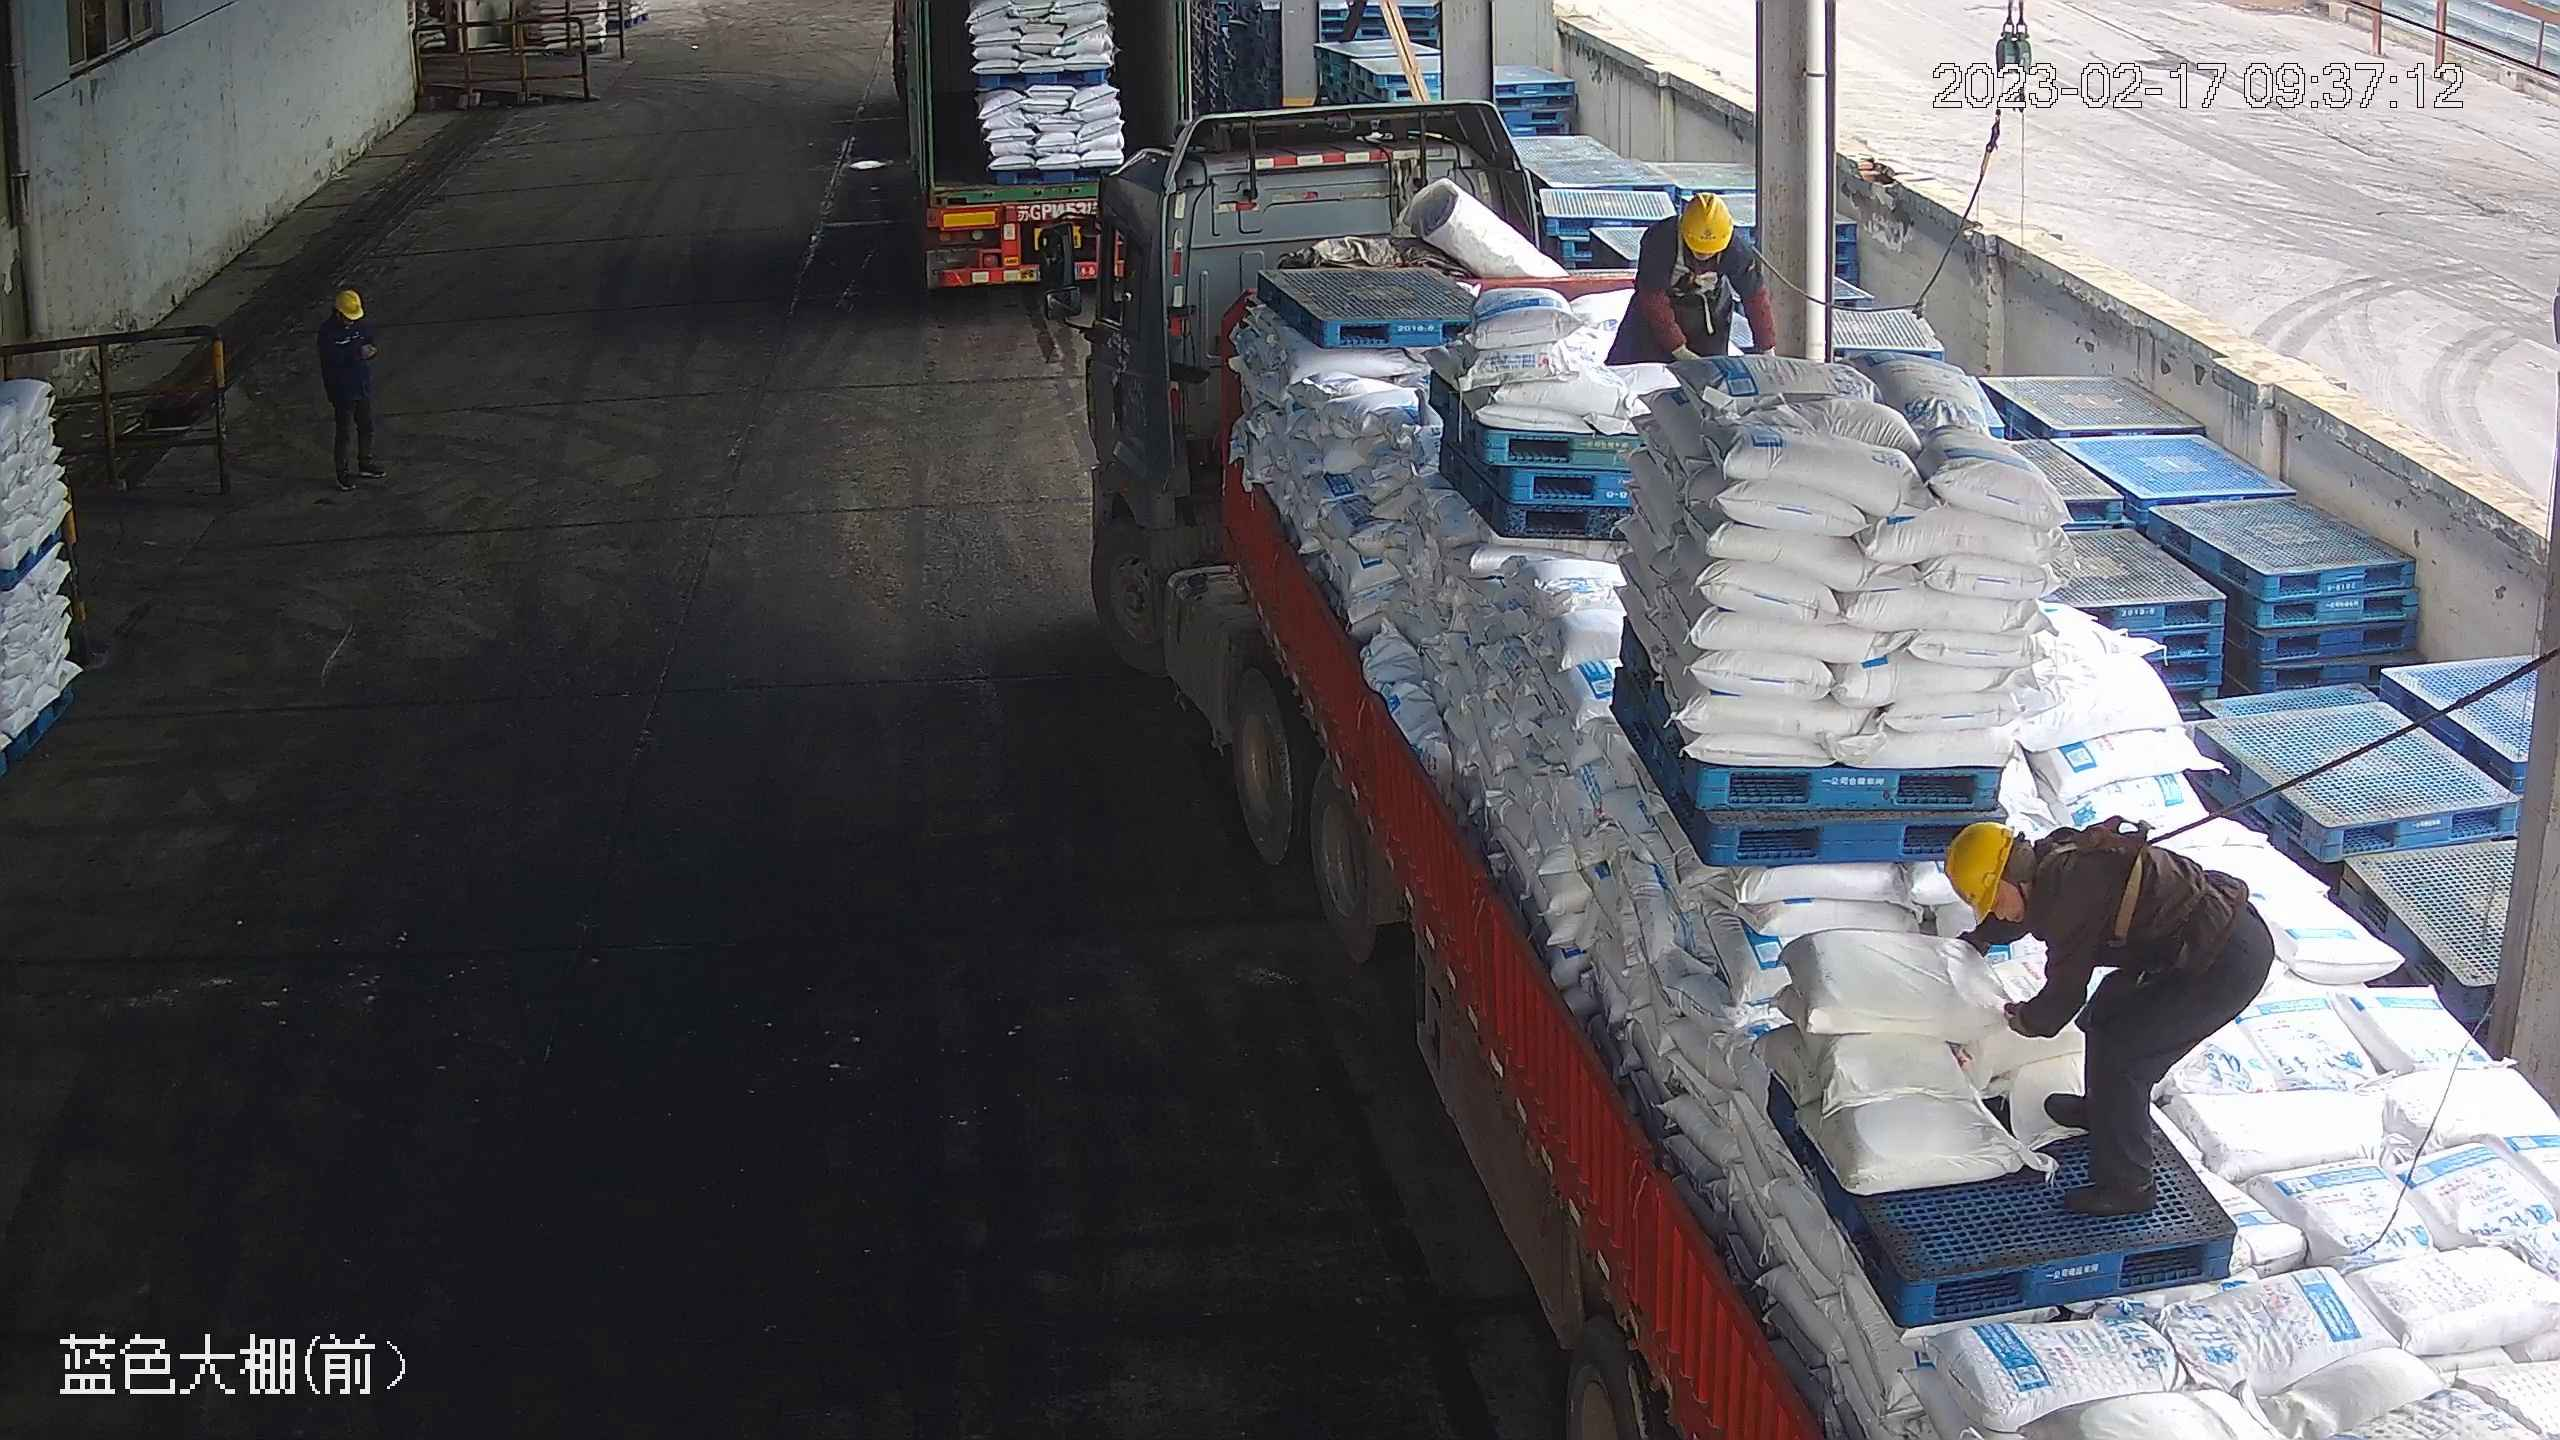belt: (2032, 808, 2175, 948), (1673, 237, 1725, 303)
head: (1941, 809, 2123, 962), (1632, 184, 1760, 299), (316, 288, 372, 352)
helmet: (1941, 816, 2014, 921), (1678, 188, 1738, 257), (331, 287, 362, 316)
people: (1940, 814, 2276, 1217), (315, 286, 392, 494)
truck: (1040, 101, 2554, 1440), (891, 1, 1181, 298)
